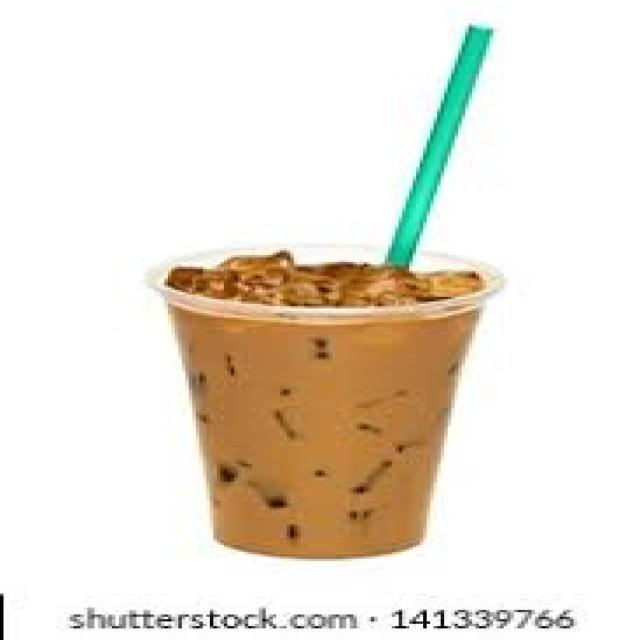bottle: (147, 246, 501, 557)
